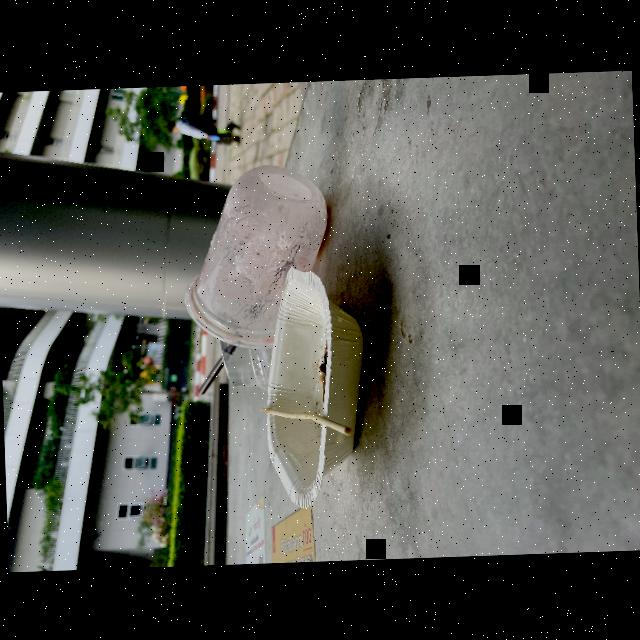cardboard_bowl: (253, 256, 381, 512)
plastic_cup: (186, 161, 334, 359)
stick: (255, 400, 358, 440)
straw: (191, 342, 239, 404)
